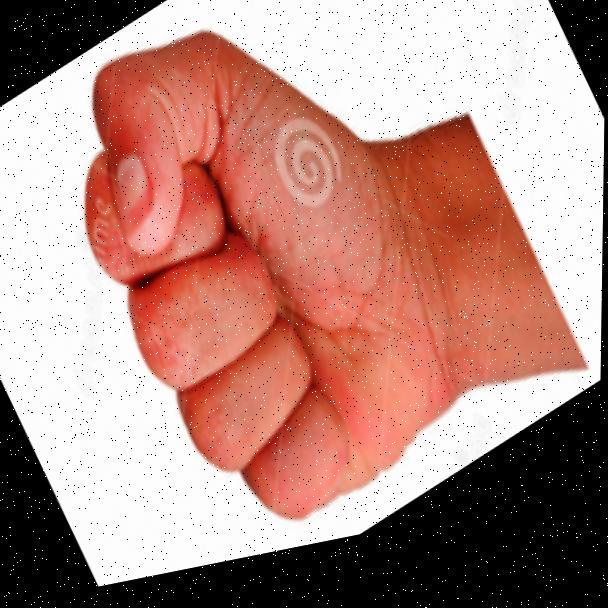five: (17, 0, 509, 604)
